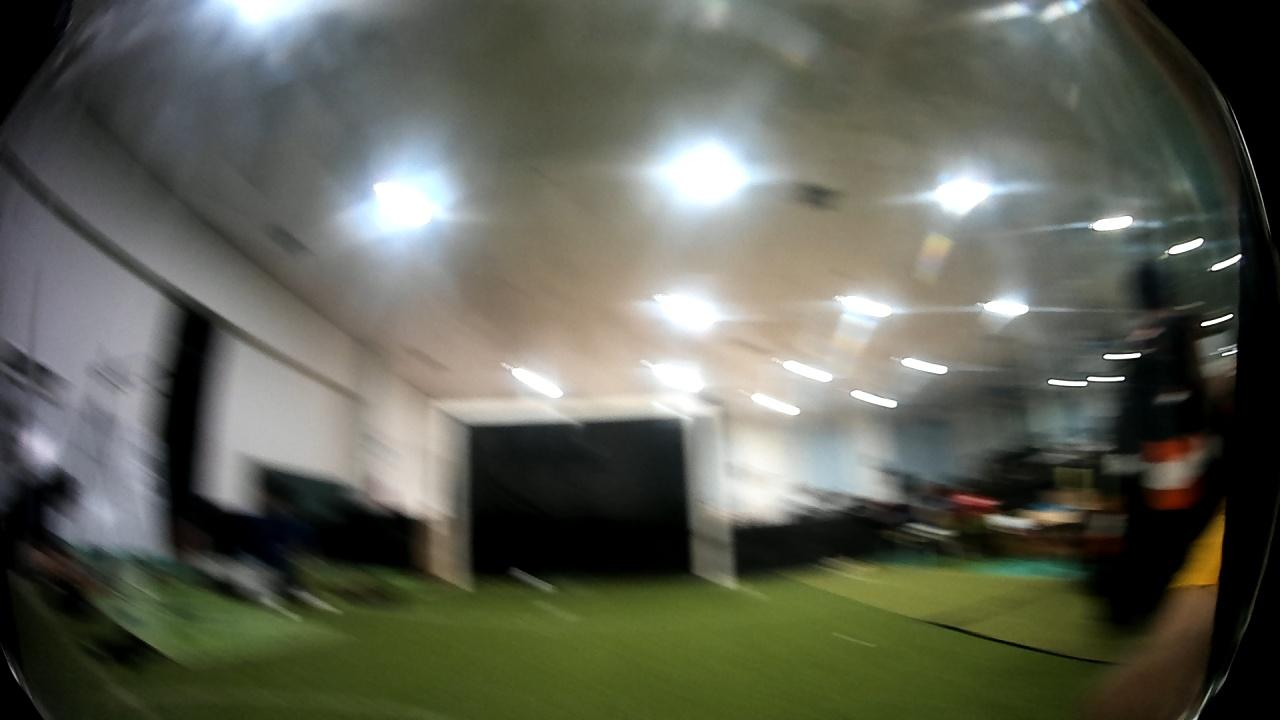ball: (509, 556, 564, 600)
